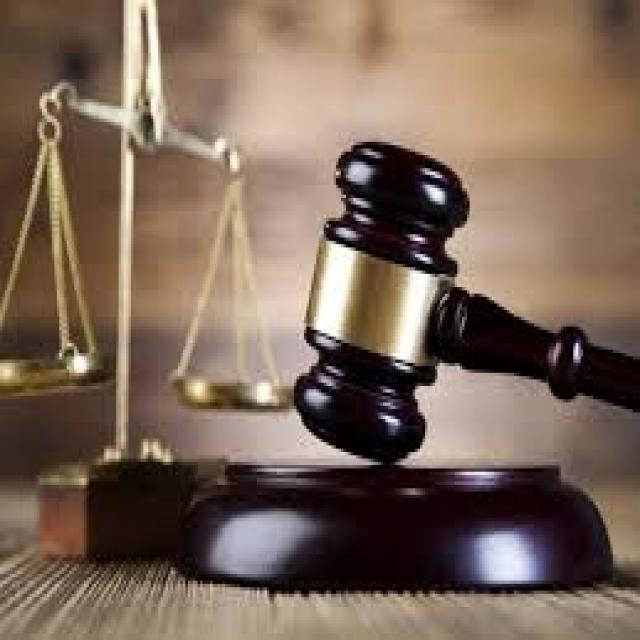hammer: (289, 124, 640, 467)
